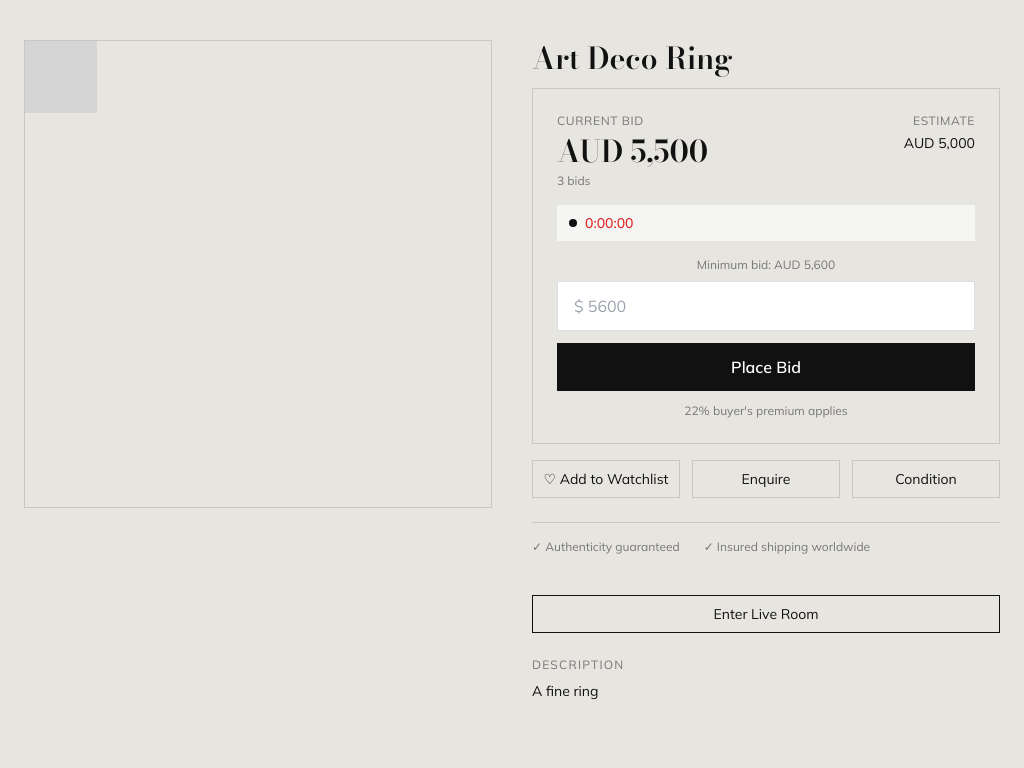
LotDetailClient › shows a distinct, honest error when the payment-profile fetch fails at the network level
Type "6000" into the number field with placeholder "$ 5600" at (766, 306), box [557,281,975,331]
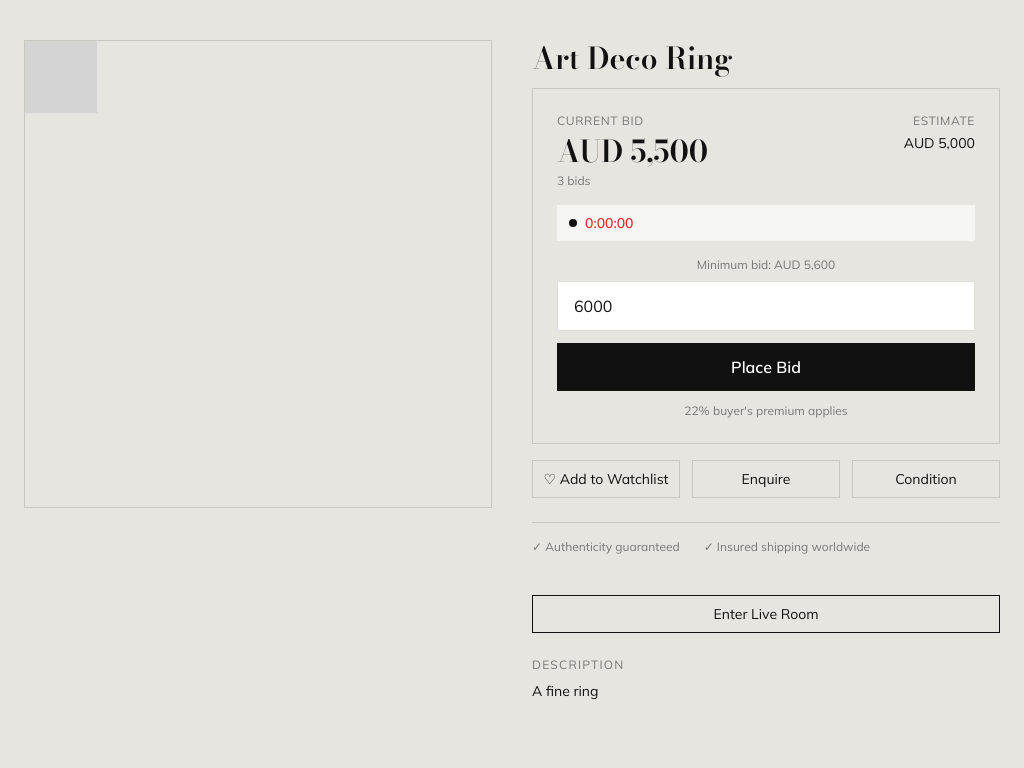
Click the button "Place Bid" at (766, 367), box [557,343,975,391]
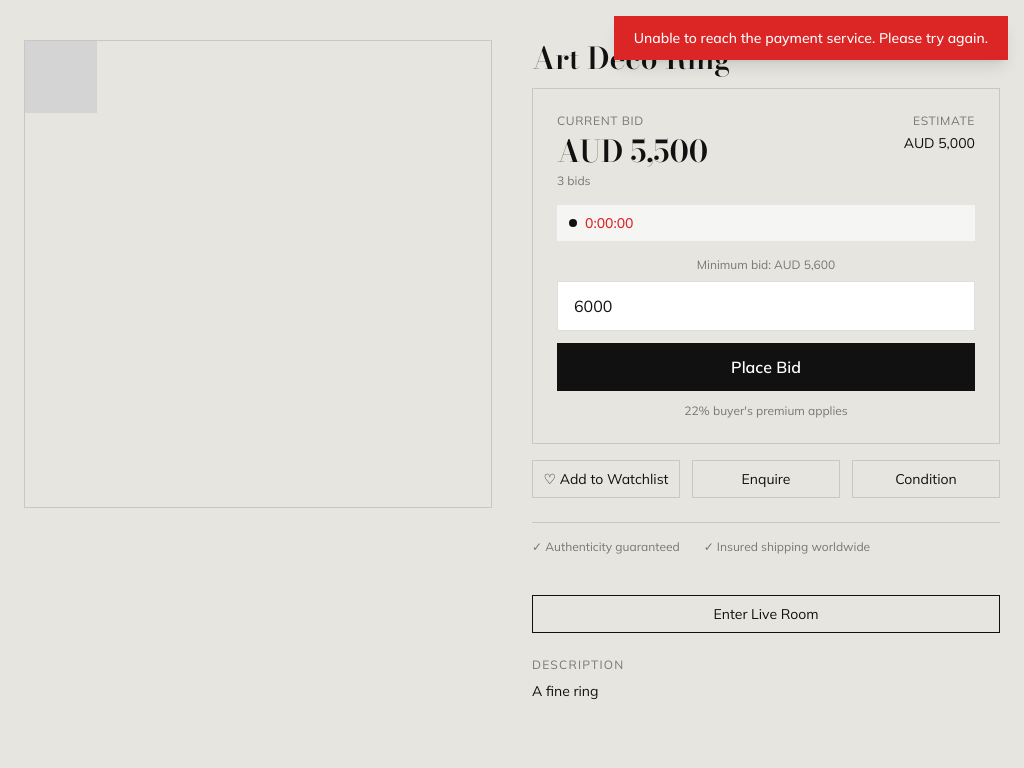
Check: the text "Unable to reach the payment service. Please try again." is shown, box [614,16,1008,60]
